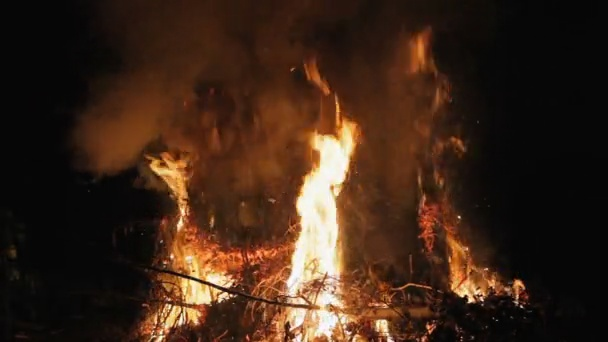fire: (276, 118, 359, 342), (141, 155, 234, 342), (450, 245, 525, 301), (374, 321, 389, 334)
